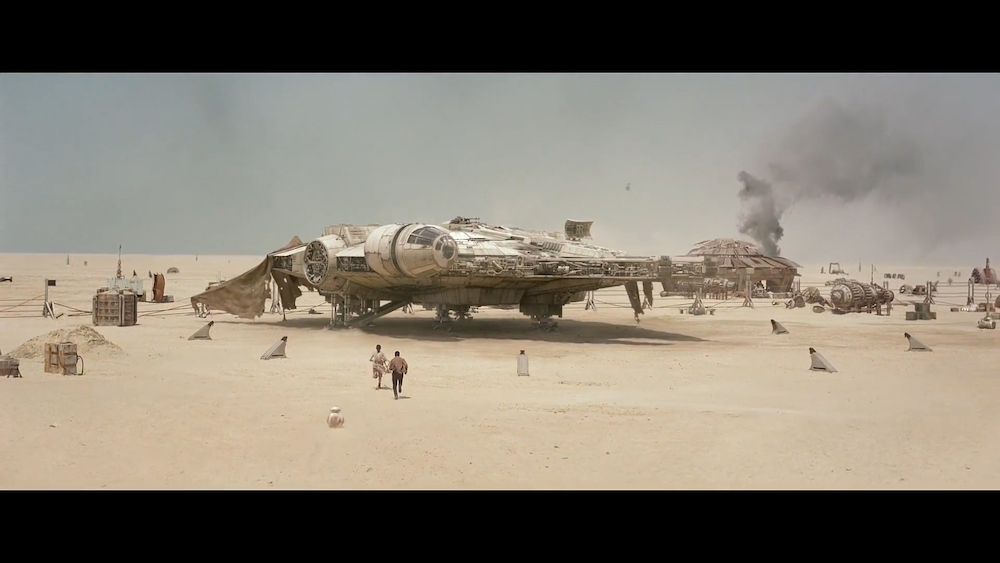Millennium Falcon: (270, 221, 717, 307)
Tie Fighter: (626, 183, 631, 191)
